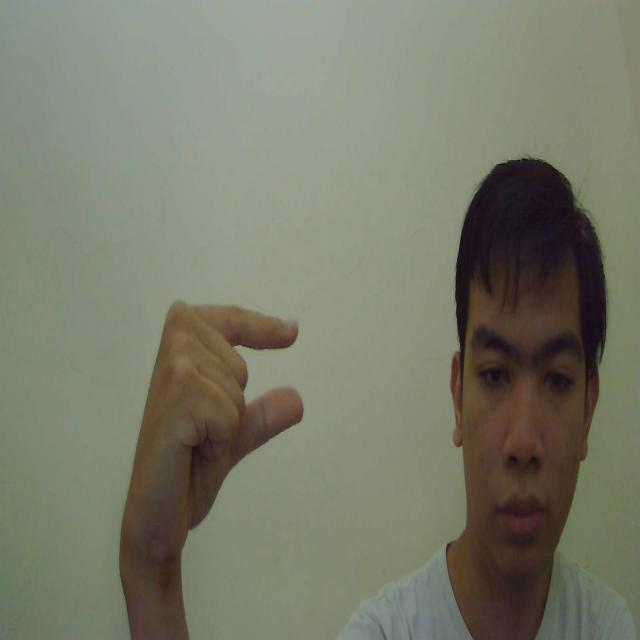G: (118, 300, 305, 554)
